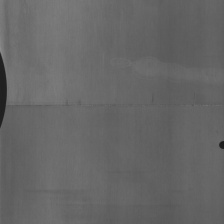welding_line: (4, 99, 224, 117), (0, 46, 10, 132), (215, 138, 224, 152)
